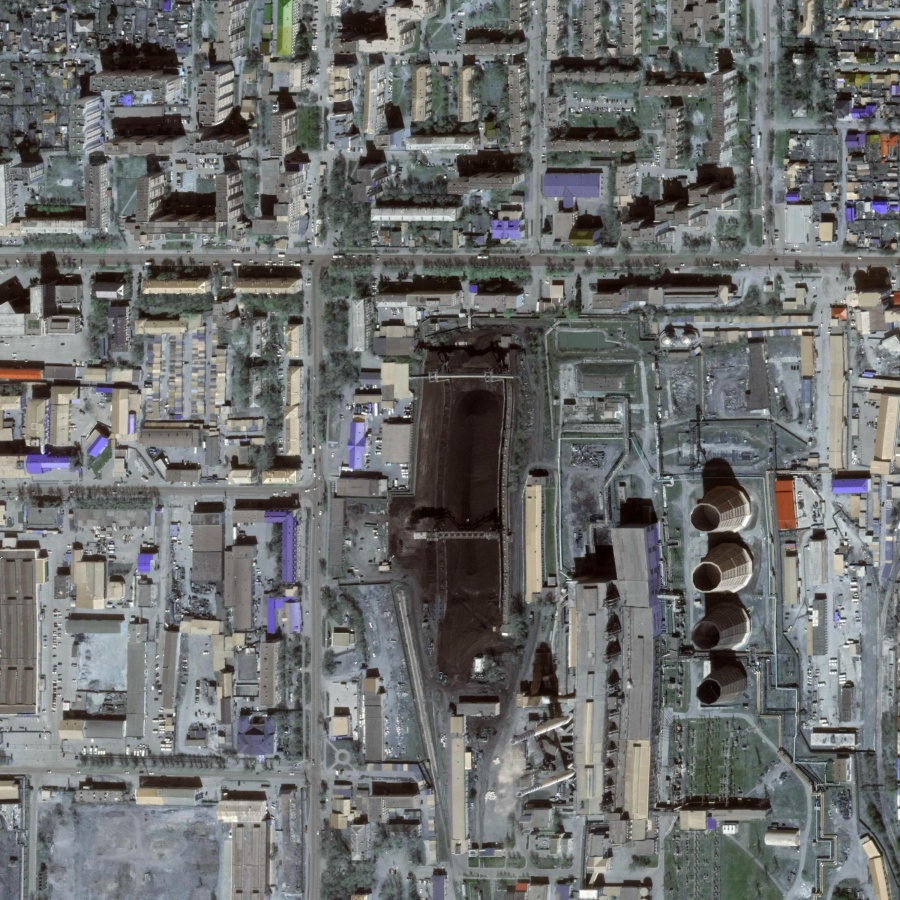PowerPlant: (375, 313, 785, 822)
